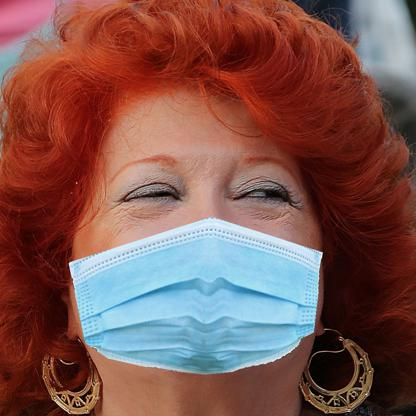mask: (64, 216, 325, 378)
